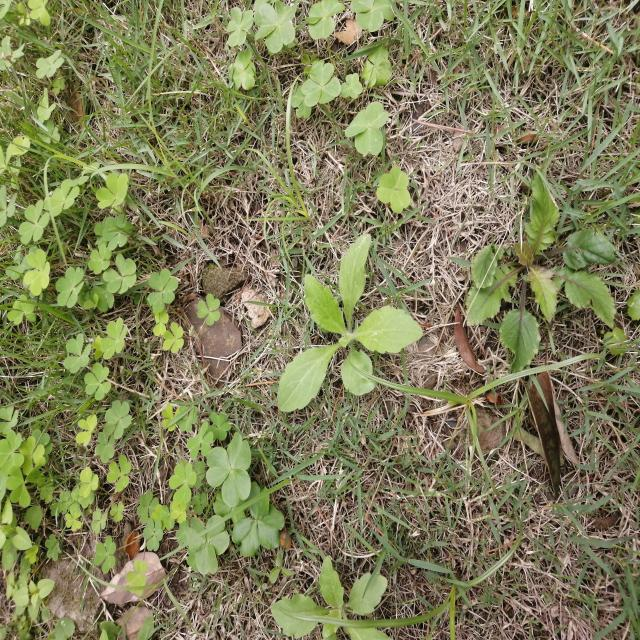horseweed: (262, 230, 427, 402)
